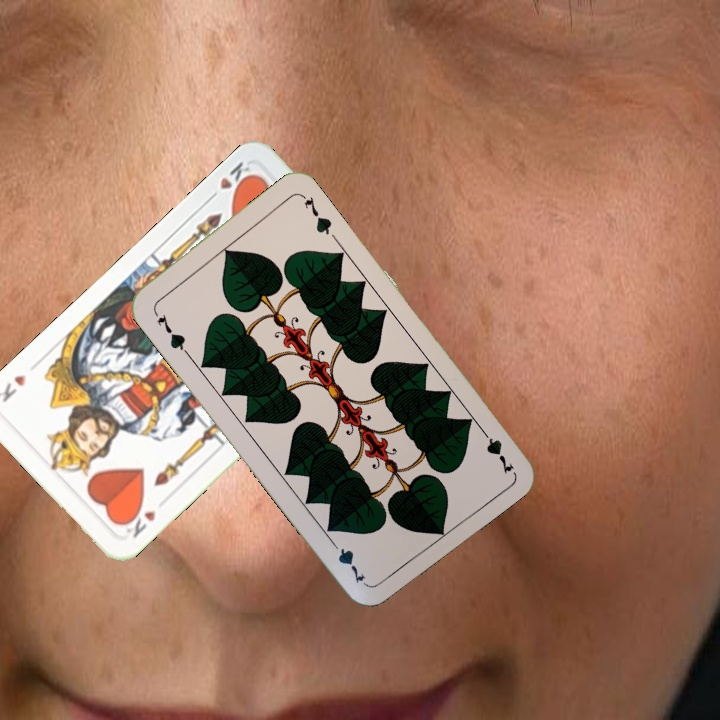G7: (475, 422, 517, 477), (149, 306, 191, 357)
HK: (204, 157, 258, 204), (118, 501, 159, 541)
